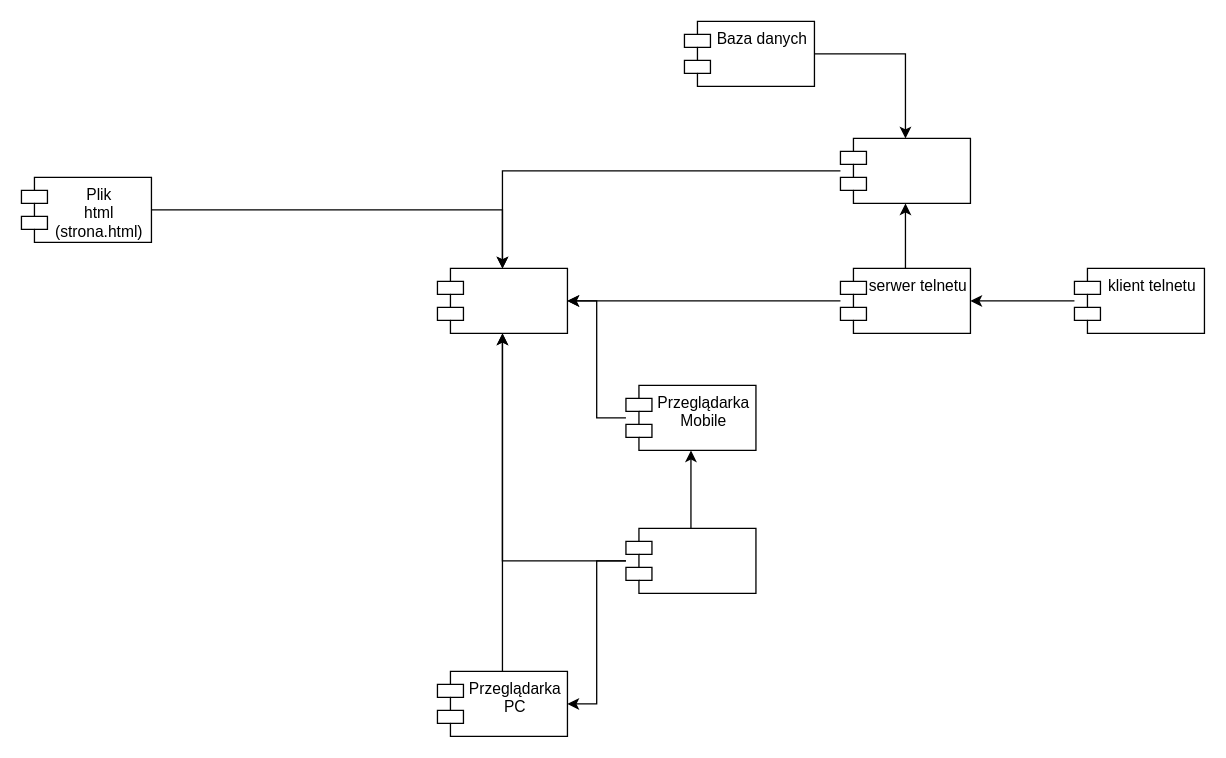
Image size: 1226x758. Some labels were removed from this diagram. Here are the shapes that lost their labels. From the top down, the box of each, then its label:
(839, 137, 970, 203): microsoft access jet
(436, 267, 567, 333): Server WWW Apahe 5.0
(625, 527, 756, 593): Komponent szyfrujący (SSL)
